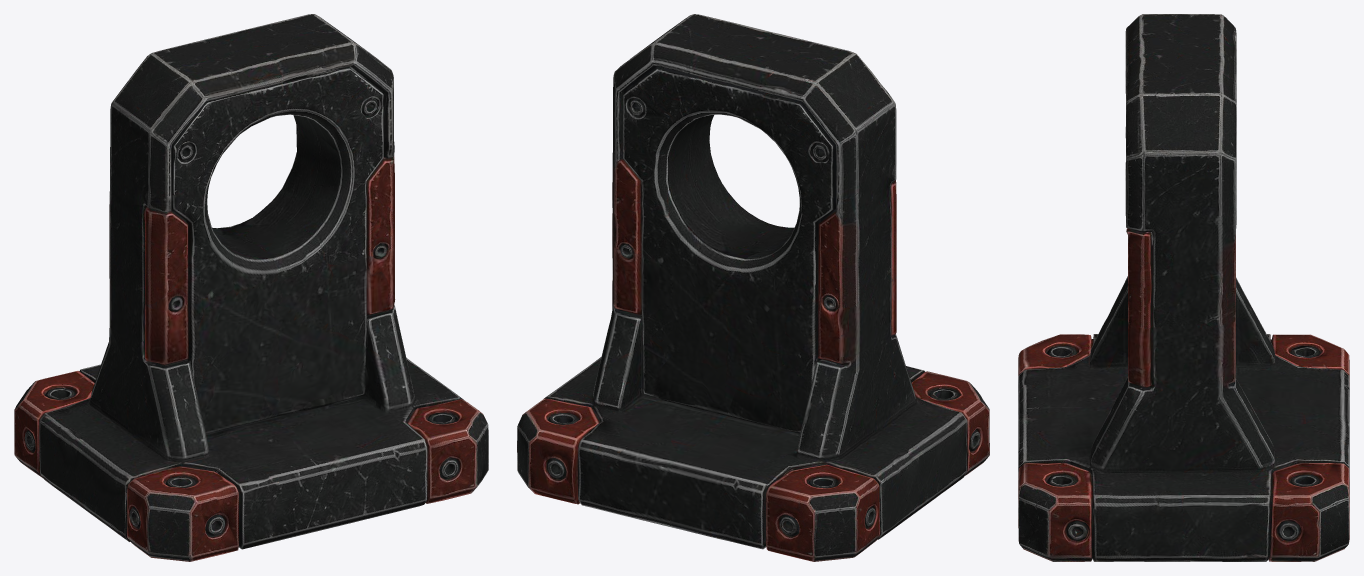
The model's file is new_universal_pivot_mount.glb.
The picture shows the model from 3 angles, left to right: view 1: azimuth 30°, elevation 25°; view 2: azimuth 150°, elevation 25°; view 3: azimuth 270°, elevation 25°; orthographic projection.
Visible parts, largest first — view 1: mesh_node; view 2: mesh_node; view 3: mesh_node.
Boxes of the visible parts, x1,y1,x2,y2 form: mesh_node: (14, 14, 488, 561); mesh_node: (517, 14, 989, 561); mesh_node: (1018, 14, 1349, 561).
Bounding box in the file's own units: 1.6 × 1.9 × 1.34.
1 material, 1 textured.
